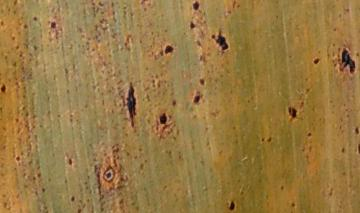tarspot: (126, 83, 136, 129), (339, 47, 356, 73), (215, 30, 229, 51), (286, 105, 298, 119), (158, 112, 168, 124), (192, 92, 201, 105), (164, 44, 175, 54), (191, 1, 200, 11), (229, 201, 236, 212), (1, 83, 7, 95), (105, 170, 113, 179), (189, 18, 196, 28), (199, 76, 206, 86), (313, 56, 320, 65), (266, 134, 273, 143), (8, 34, 17, 41), (22, 22, 29, 30), (67, 156, 72, 166), (69, 195, 76, 202), (49, 22, 57, 28), (75, 207, 83, 213), (171, 98, 177, 106), (306, 129, 312, 137), (340, 145, 346, 153), (356, 142, 360, 153), (211, 32, 217, 39), (354, 126, 360, 133), (260, 136, 266, 143), (40, 187, 47, 193), (279, 183, 284, 191), (33, 16, 39, 22), (16, 156, 22, 162), (291, 202, 297, 208), (1, 19, 6, 26), (15, 45, 20, 50)
